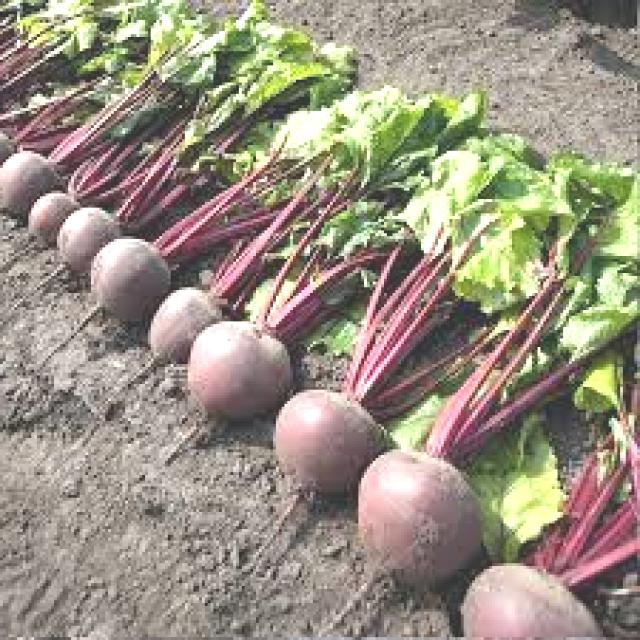tomato: (354, 443, 499, 585), (178, 310, 300, 446), (273, 383, 395, 504), (464, 553, 603, 640), (84, 228, 181, 336), (147, 283, 227, 378), (50, 200, 120, 280), (0, 149, 58, 217), (19, 180, 71, 254)
